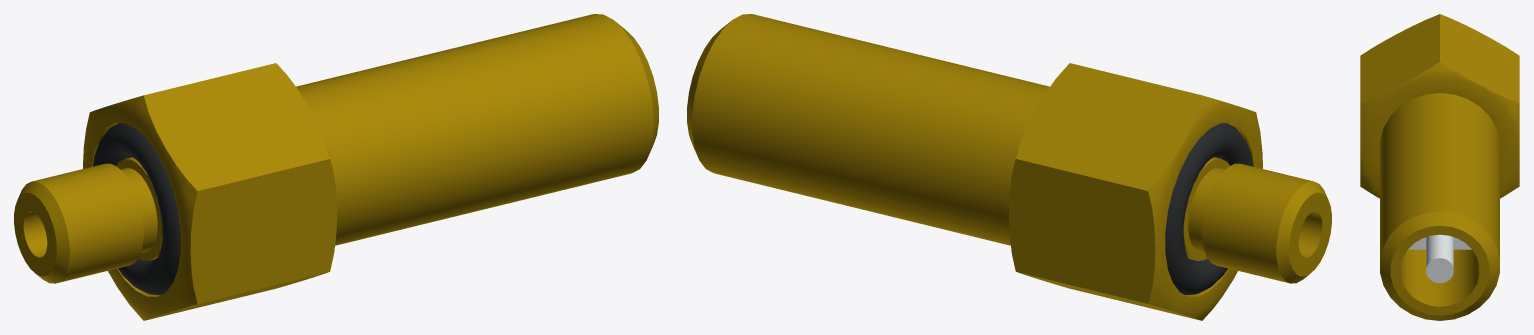
Rendered from schrader-valve.glb.
3 renders of one model, left to right at view 1: azimuth 30°, elevation 25°; view 2: azimuth 150°, elevation 25°; view 3: azimuth 270°, elevation 25°, orthographic. The views are drawn at different scales.
Parts seen in each view (by area): view 1: 276-8751-001 Simplified Model; view 2: 276-8751-001 Simplified Model; view 3: 276-8751-001 Simplified Model.
Boxes of the visible parts, x1,y1,x2,y2 form: 276-8751-001 Simplified Model: (14,14,658,320); 276-8751-001 Simplified Model: (687,14,1331,320); 276-8751-001 Simplified Model: (1360,14,1519,320).
Size of the model in its own units: 0.0316 by 0.0115 by 0.01.
